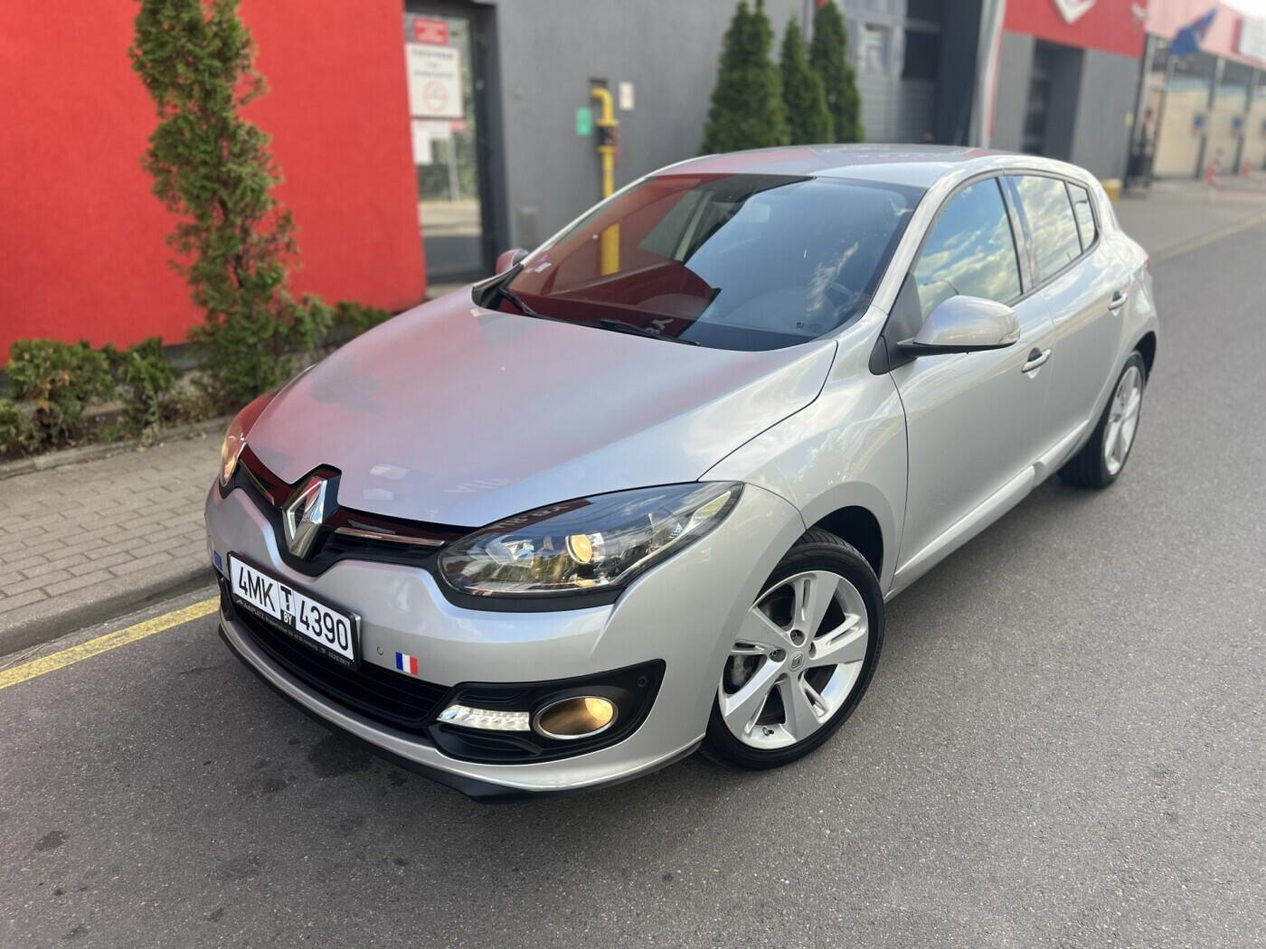Megane_2014-2016: (194, 133, 1169, 797)
